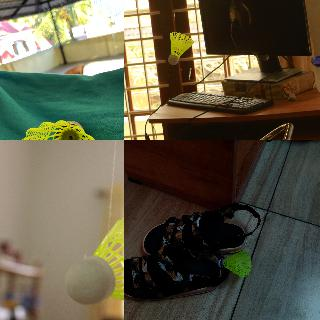shuttlecock: (65, 208, 123, 305), (15, 120, 106, 139), (218, 250, 250, 276), (168, 32, 192, 64)
